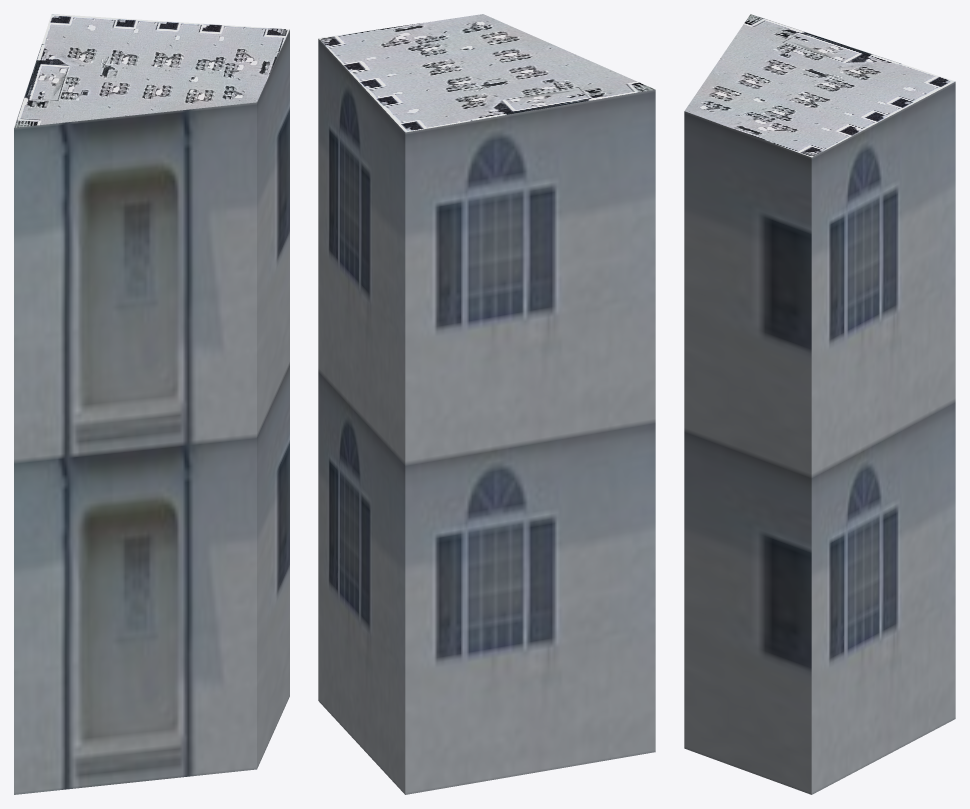
File: ResTex__1514.fbx
3 renders of one model, left to right at view 1: azimuth 30°, elevation 25°; view 2: azimuth 150°, elevation 25°; view 3: azimuth 270°, elevation 25°, orthographic. The views are drawn at different scales.
Visible parts, largest first — view 1: CityEngineMaterial_17_m, CityEngineMaterial_m; view 2: CityEngineMaterial_17_m, CityEngineMaterial_m; view 3: CityEngineMaterial_17_m, CityEngineMaterial_m.
Part boxes in pixels (x1,y1,x2,y2): CityEngineMaterial_17_m: (14, 30, 289, 794); CityEngineMaterial_m: (14, 14, 289, 127); CityEngineMaterial_17_m: (318, 39, 655, 794); CityEngineMaterial_m: (318, 14, 654, 132); CityEngineMaterial_17_m: (684, 81, 955, 794); CityEngineMaterial_m: (684, 14, 954, 157).
Size of the model in its own units: 2.9 by 6 by 2.31.
2 materials, 2 textured.
